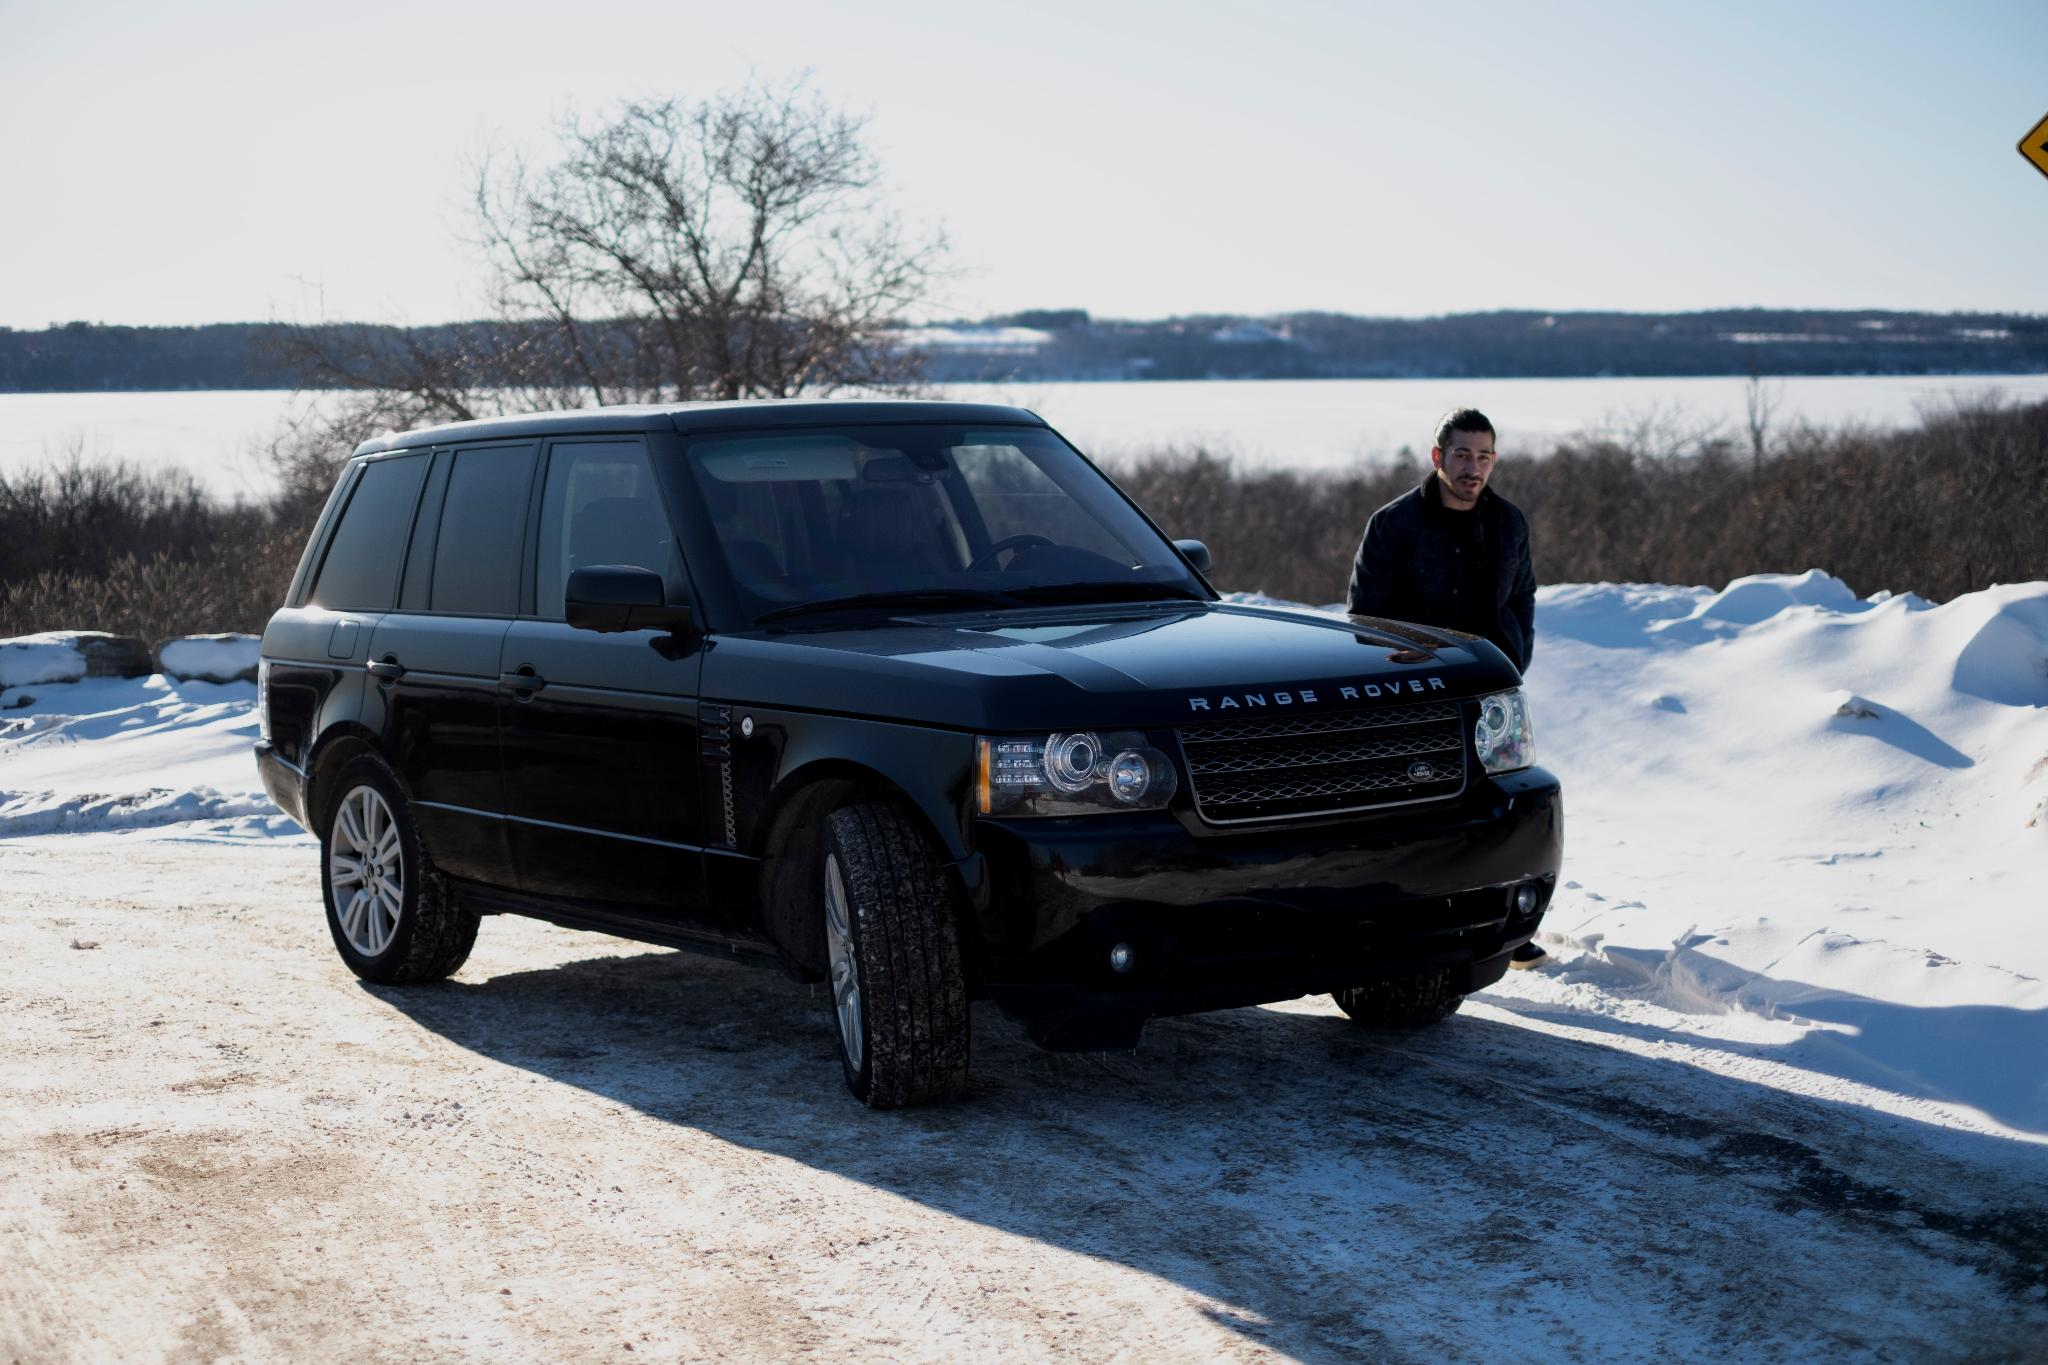range rover: (1174, 666, 1468, 731)
